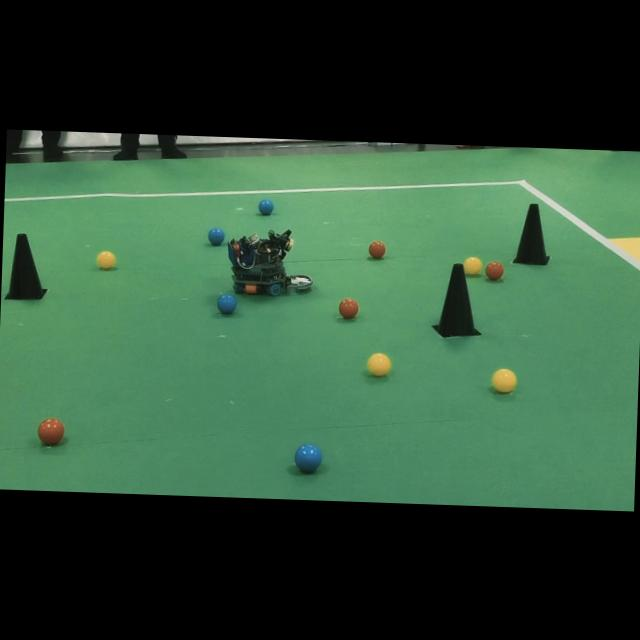ball: (294, 443, 322, 473), (37, 417, 64, 444), (367, 352, 391, 376), (492, 368, 517, 391), (217, 293, 237, 314), (338, 298, 358, 318), (96, 250, 116, 269), (463, 256, 482, 275), (485, 261, 503, 280), (208, 227, 224, 245), (369, 241, 385, 258), (258, 199, 273, 215)
goal: (609, 237, 640, 260)
